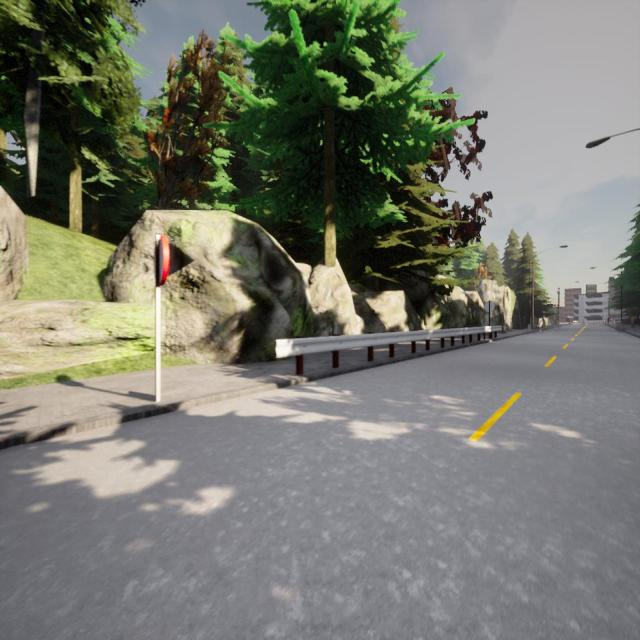Pedestrian: (630, 314, 636, 331)
Traffic_Signs: (156, 235, 172, 285), (486, 300, 494, 313)
